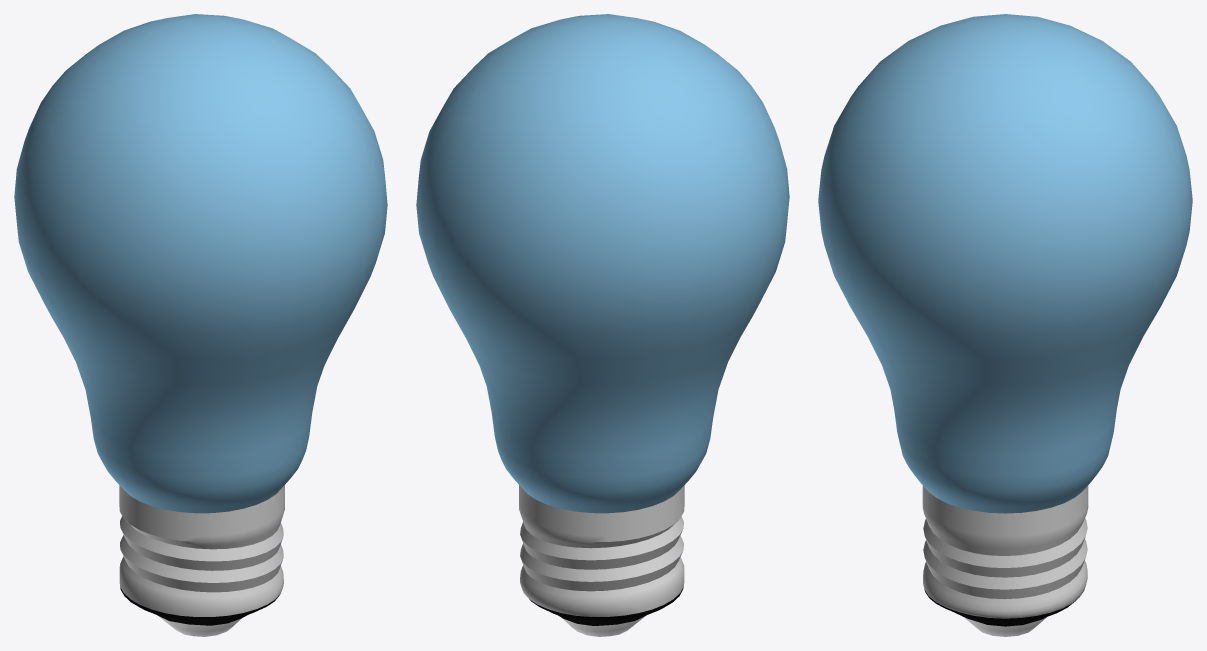
The model's file is LightBulb.fbx.
3 renders of one model, left to right at view 1: azimuth 30°, elevation 25°; view 2: azimuth 150°, elevation 25°; view 3: azimuth 270°, elevation 25°, orthographic.
Visible parts, largest first — view 1: Roundcube; view 2: Roundcube; view 3: Roundcube.
Part boxes in pixels (<box>): Roundcube: <box>14,14,387,636</box>; Roundcube: <box>416,14,789,636</box>; Roundcube: <box>818,14,1192,636</box>.
Bounding box in the file's own units: 460 × 812 × 460.
